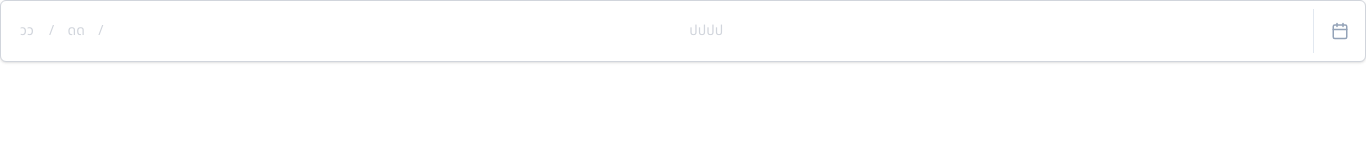
ThaiDatePicker › sanitizes non-digit input
The width and height of the screenshot is (1366, 160).
In the field named "วัน": (27, 31) [9,21,45,41], type "1a6!"
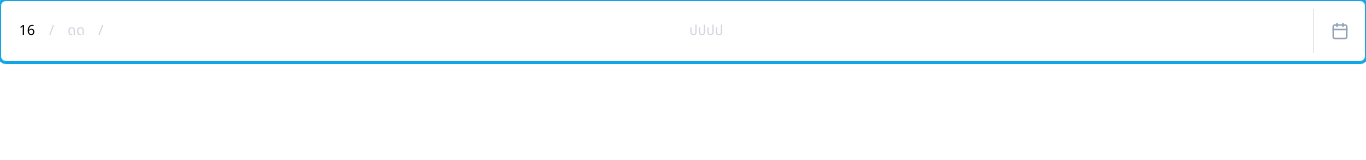
Result: the field named "วัน" holds "16" at [9,21,45,41]
